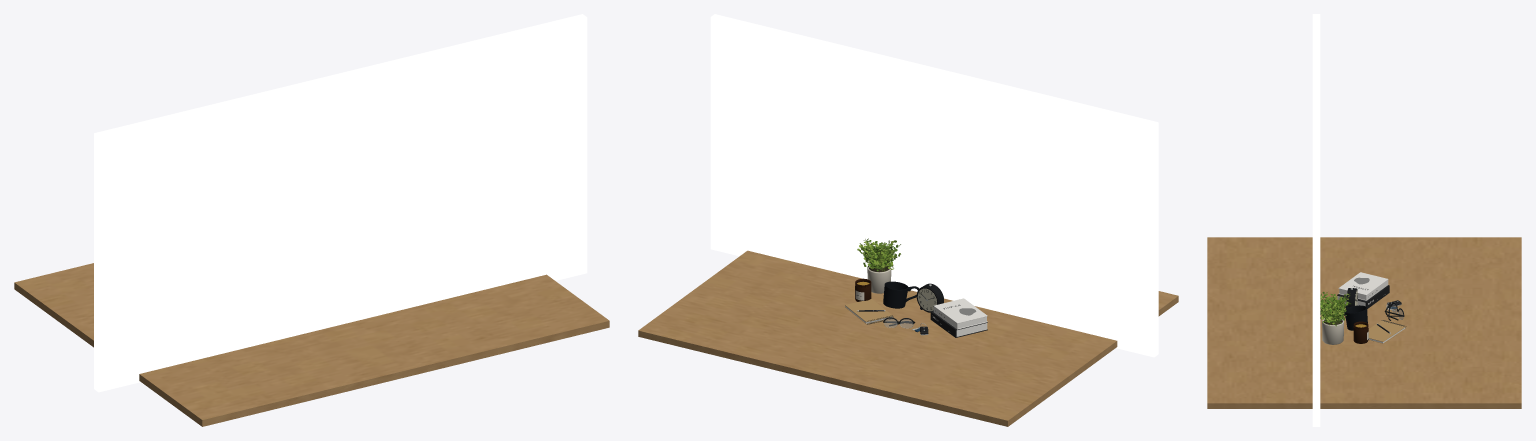
Rendered from viga.glb.
3 views of the same model, side by side, from view 1: azimuth 30°, elevation 25°; view 2: azimuth 150°, elevation 25°; view 3: azimuth 270°, elevation 25° (orthographic). The views are drawn at different scales.
Visible parts, largest first — view 1: White wall, Desktop; view 2: White wall, Desktop, black_mug_mesh, Kinfolk cover.001, Upper kraft cover; view 3: Desktop, White wall, Kinfolk cover.001, Upper kraft cover, Simple ceramic pot, black_mug_mesh, Amber glass jar body.
Part boxes in pixels (x1=…): White wall: x1=94, y1=14, x2=587, y2=392; Desktop: x1=14, y1=263, x2=609, y2=426; White wall: x1=710, y1=14, x2=1158, y2=357; Desktop: x1=638, y1=250, x2=1178, y2=426; black_mug_mesh: x1=883, y1=281, x2=919, y2=308; Kinfolk cover.001: x1=934, y1=298, x2=987, y2=323; Upper kraft cover: x1=845, y1=299, x2=892, y2=322; Desktop: x1=1207, y1=237, x2=1521, y2=408; White wall: x1=1312, y1=14, x2=1320, y2=426; Kinfolk cover.001: x1=1338, y1=272, x2=1387, y2=295; Upper kraft cover: x1=1368, y1=320, x2=1405, y2=341; Simple ceramic pot: x1=1322, y1=318, x2=1343, y2=344; black_mug_mesh: x1=1344, y1=305, x2=1367, y2=330; Amber glass jar body: x1=1353, y1=321, x2=1368, y2=343.
Bounding box in the file's own units: 6 × 3.38 × 4.
29 materials, 5 textured.
